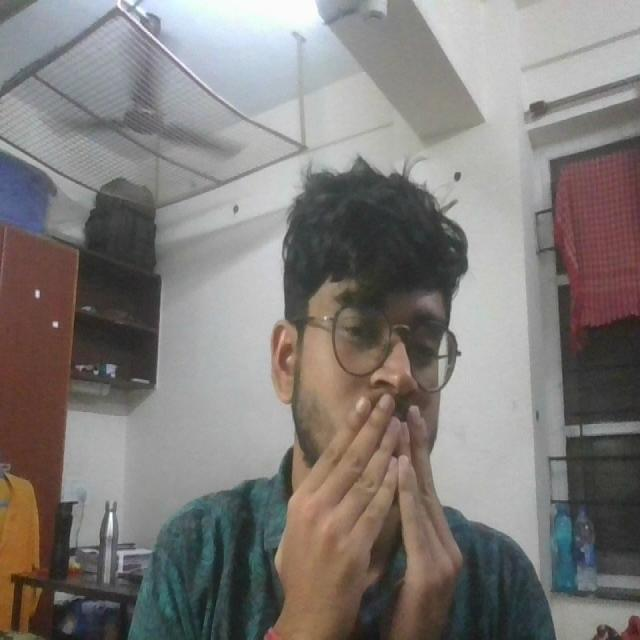Thanks: (266, 373, 480, 640)
